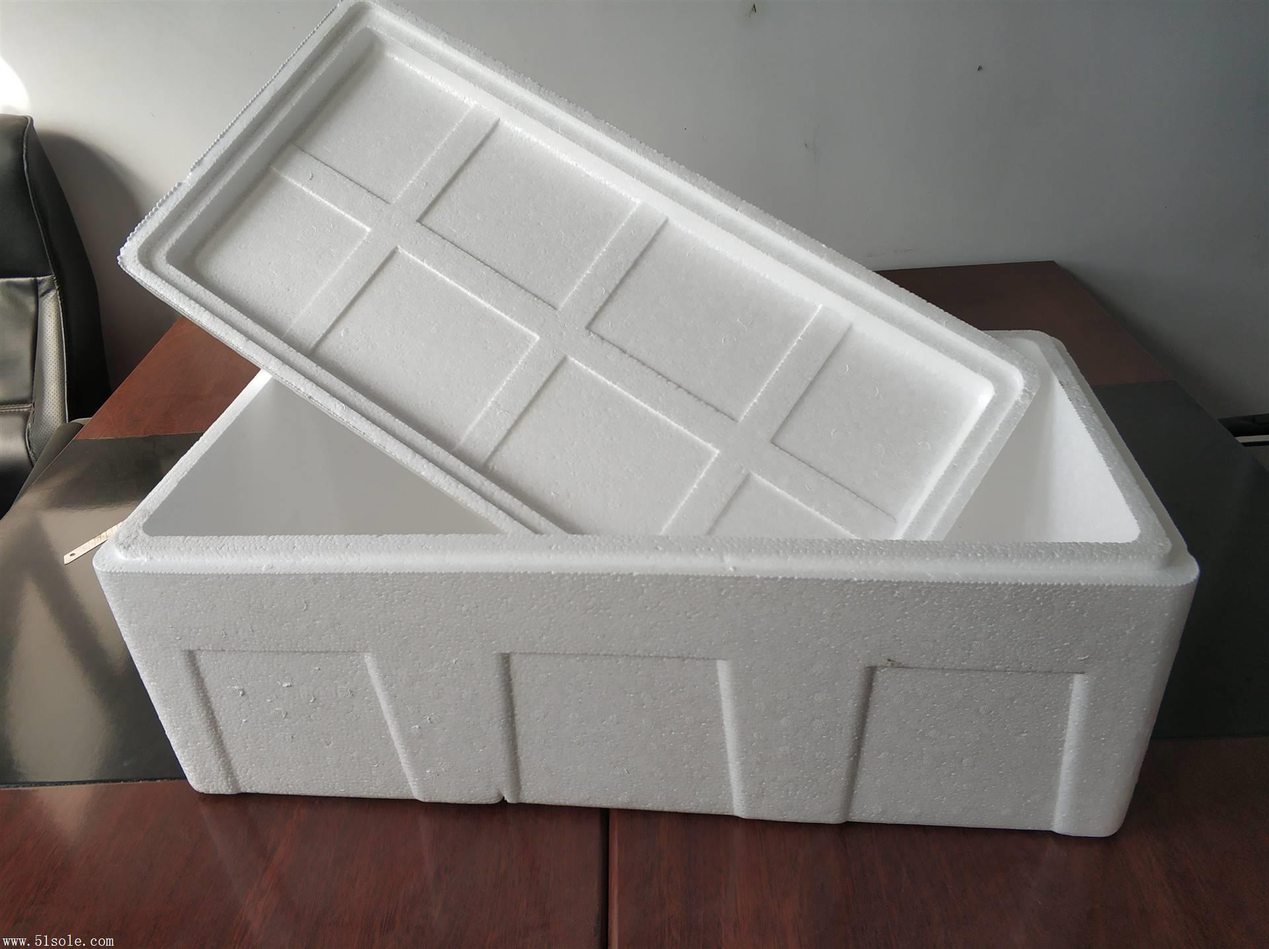Boxes: (96, 3, 1197, 836)
